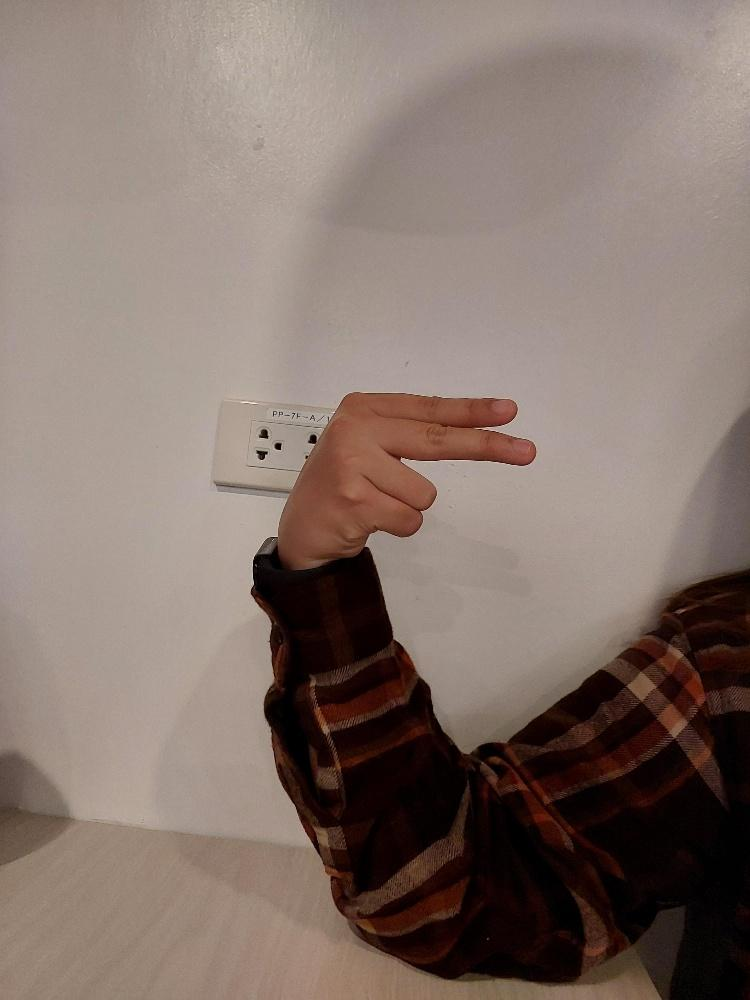h: (278, 385, 539, 559)
